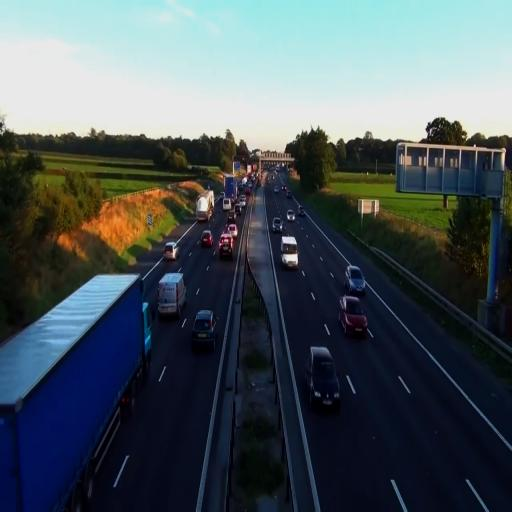vehicle: (0, 274, 147, 508), (306, 346, 341, 412), (157, 272, 186, 320), (338, 295, 369, 339), (191, 309, 217, 351), (218, 223, 238, 260), (344, 266, 366, 298), (280, 235, 298, 270), (196, 192, 214, 223), (218, 232, 235, 259), (200, 229, 214, 249), (271, 215, 284, 234), (286, 210, 296, 222)
